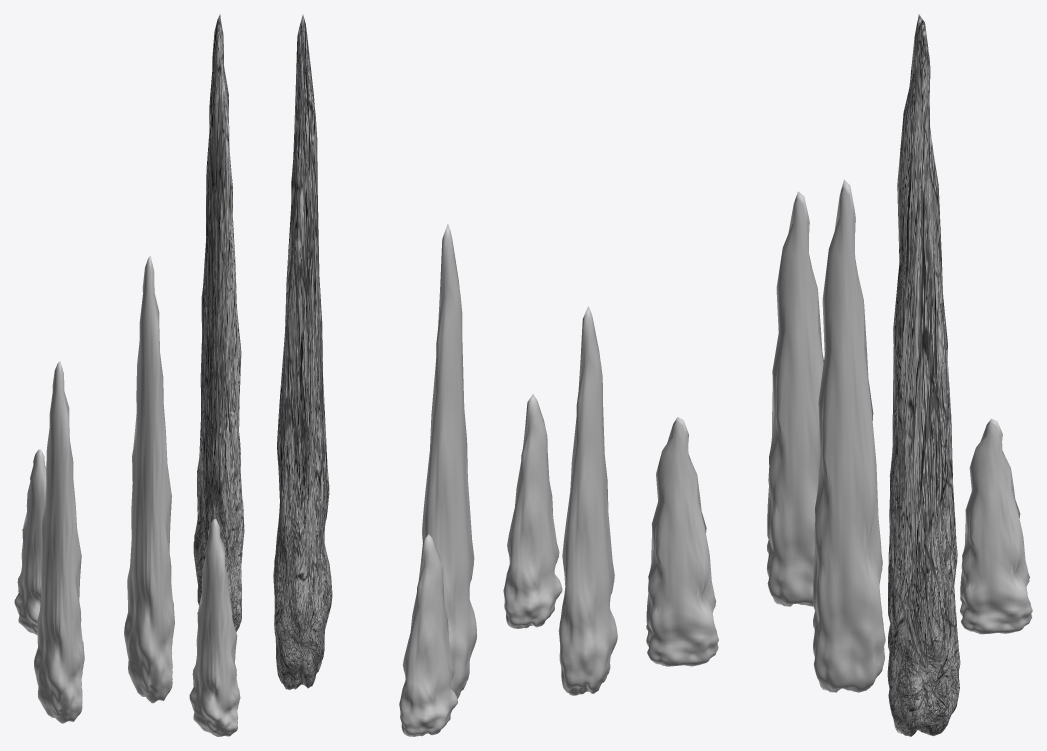
File: scourge_spike.obj
3 renders of one model, left to right at view 1: azimuth 30°, elevation 25°; view 2: azimuth 150°, elevation 25°; view 3: azimuth 270°, elevation 25°, orthographic. The views are drawn at different scales.
Parts seen in each view (by area): view 1: Cube.002, Cube.001, Cube.003, Cube.004, Cube; view 2: Cube.002, Cube.003, Cube.001, Cube.004, Cube; view 3: Cube.002, Cube.001, Cube.003, Cube.004, Cube.
Boxes of the visible parts, bbox=[...] form: Cube.002: bbox=[193, 14, 244, 631]; Cube.001: bbox=[124, 256, 174, 703]; Cube.003: bbox=[34, 361, 84, 723]; Cube.004: bbox=[189, 519, 240, 736]; Cube: bbox=[14, 449, 46, 635]; Cube.002: bbox=[273, 15, 332, 689]; Cube.003: bbox=[558, 306, 617, 695]; Cube.001: bbox=[421, 224, 476, 698]; Cube.004: bbox=[503, 394, 562, 628]; Cube: bbox=[399, 534, 457, 736]; Cube.002: bbox=[887, 14, 960, 736]; Cube.001: bbox=[813, 179, 885, 692]; Cube.003: bbox=[766, 191, 823, 606]; Cube.004: bbox=[646, 417, 718, 666]; Cube: bbox=[960, 418, 1032, 634].
Bounding box in the file's own units: 4.84 × 11.82 × 5.62.
